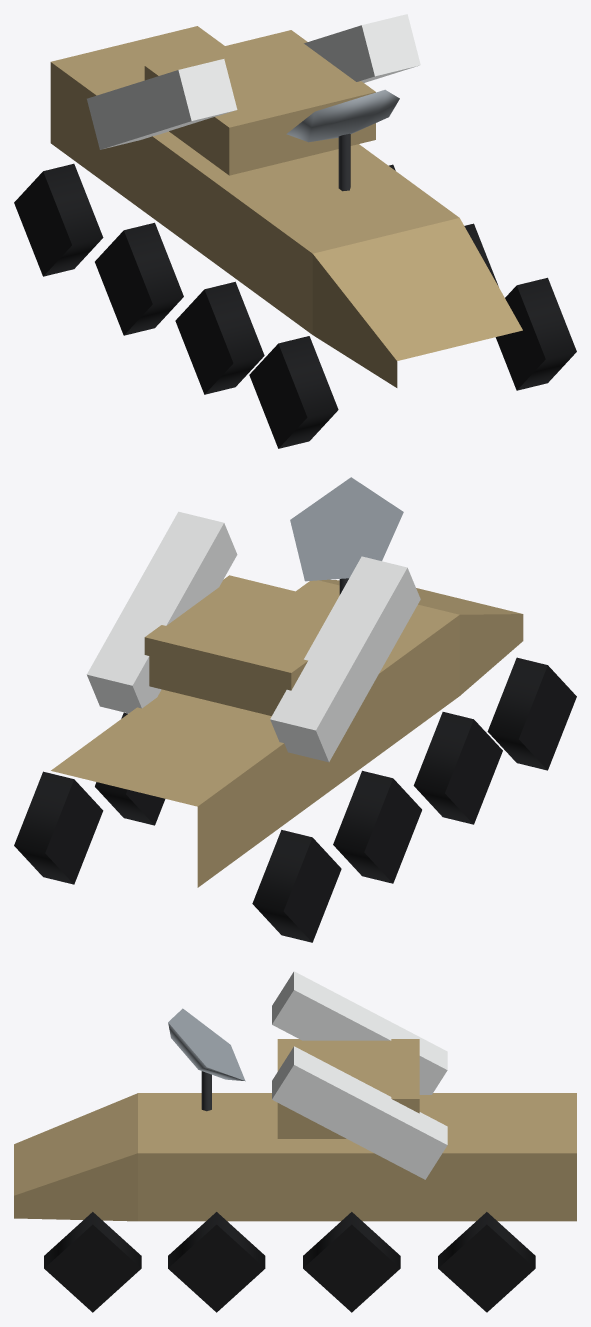
File: veh_ground_aa_wheeled_a07_lod2.glb
3 renders of one model, top to bottom at view 1: azimuth 30°, elevation 25°; view 2: azimuth 150°, elevation 25°; view 3: azimuth 270°, elevation 25°, orthographic. The views are drawn at different scales.
Parts seen in each view (by area): view 1: body, turret, wheel_2, wheel_4, wheel_6, wheel_0, wheel_7, radar; view 2: turret, body, radar, wheel_1, wheel_2, wheel_0, wheel_4, wheel_6, wheel_3; view 3: body, turret, wheel_1, wheel_3, wheel_7, wheel_5, radar.
Boxes of the visible parts, x1,y1,x2,y2 form: body: (50,26,522,387); turret: (87,14,420,175); wheel_2: (95,222,183,335); wheel_4: (175,281,264,394); wheel_6: (249,336,338,448); wheel_0: (14,163,103,276); wheel_7: (495,277,576,390); radar: (286,89,399,191); turret: (86,511,420,762); body: (51,579,523,887); radar: (290,477,403,594); wheel_1: (14,771,103,884); wheel_2: (333,770,421,883); wheel_0: (252,830,341,942); wheel_4: (413,712,502,824); wheel_6: (487,657,576,770); wheel_3: (95,712,165,825); body: (14,1093,576,1221); turret: (272,971,447,1179); wheel_1: (438,1212,535,1312); wheel_3: (303,1212,400,1312); wheel_7: (44,1212,141,1312); wheel_5: (168,1212,265,1312); radar: (168,1008,245,1111).
Bounding box in the file's own units: 2.94 × 3.02 × 6.35.
